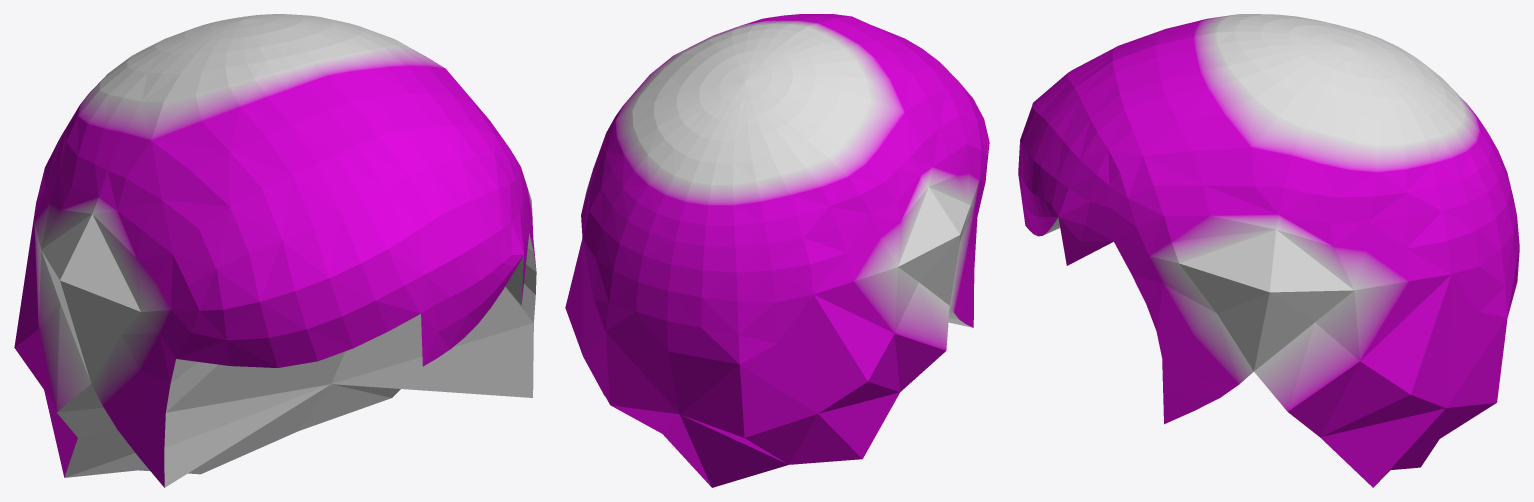
File: hair_63.glb
The picture shows the model from 3 angles, left to right: view 1: azimuth 30°, elevation 25°; view 2: azimuth 150°, elevation 25°; view 3: azimuth 270°, elevation 25°; orthographic projection. The views are drawn at different scales.
Parts seen in each view (by area): view 1: shape; view 2: shape; view 3: shape.
Boxes of the visible parts, <box> form: shape: <box>14,14,536,487</box>; shape: <box>565,14,989,487</box>; shape: <box>1018,14,1519,487</box>.
Size of the model in its own units: 60.46 by 63.56 by 66.48.
